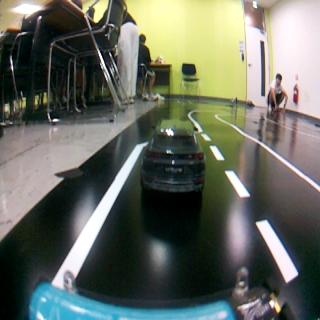car: (141, 118, 211, 190)
